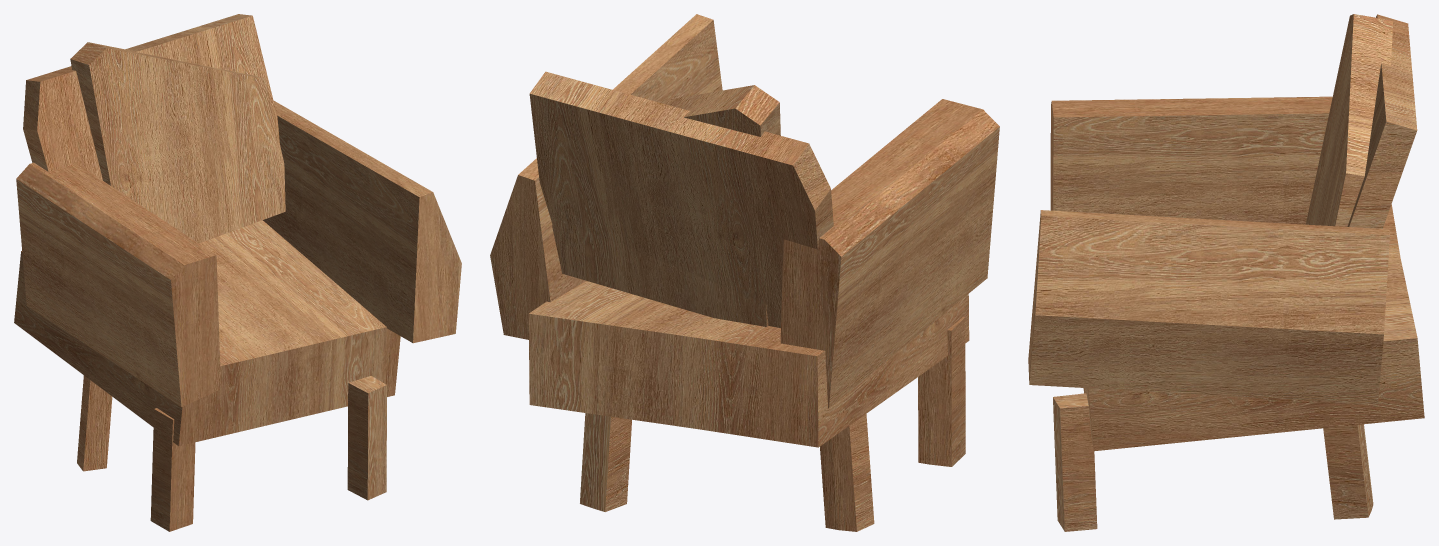
The model's file is 3326_ours.glb.
3 renders of one model, left to right at view 1: azimuth 30°, elevation 25°; view 2: azimuth 150°, elevation 25°; view 3: azimuth 270°, elevation 25°, orthographic. The views are drawn at different scales.
Visible parts, largest first — view 1: ParentEmpty; view 2: ParentEmpty; view 3: ParentEmpty.
Boxes of the visible parts, x1=… form: ParentEmpty: x1=14, y1=14, x2=461, y2=531; ParentEmpty: x1=490, y1=14, x2=999, y2=531; ParentEmpty: x1=1028, y1=14, x2=1424, y2=531.
Bounding box in the file's own units: 0.7971 × 1 × 0.8247.
1 material, 1 textured.
